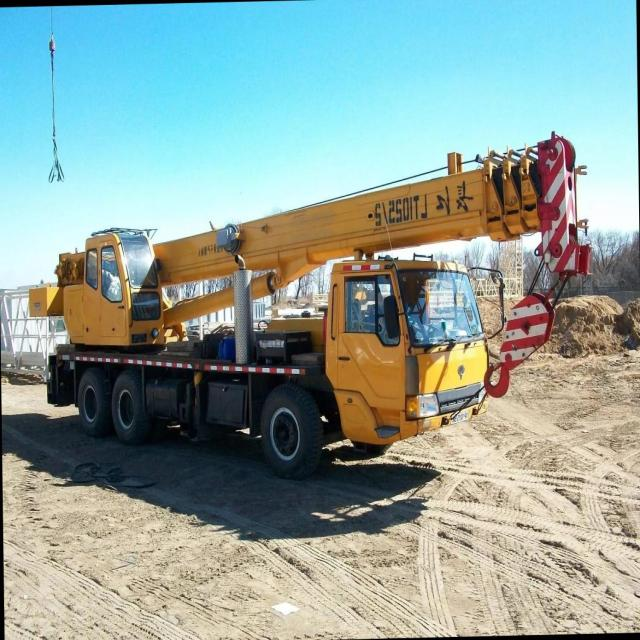crane: (24, 130, 594, 484)
